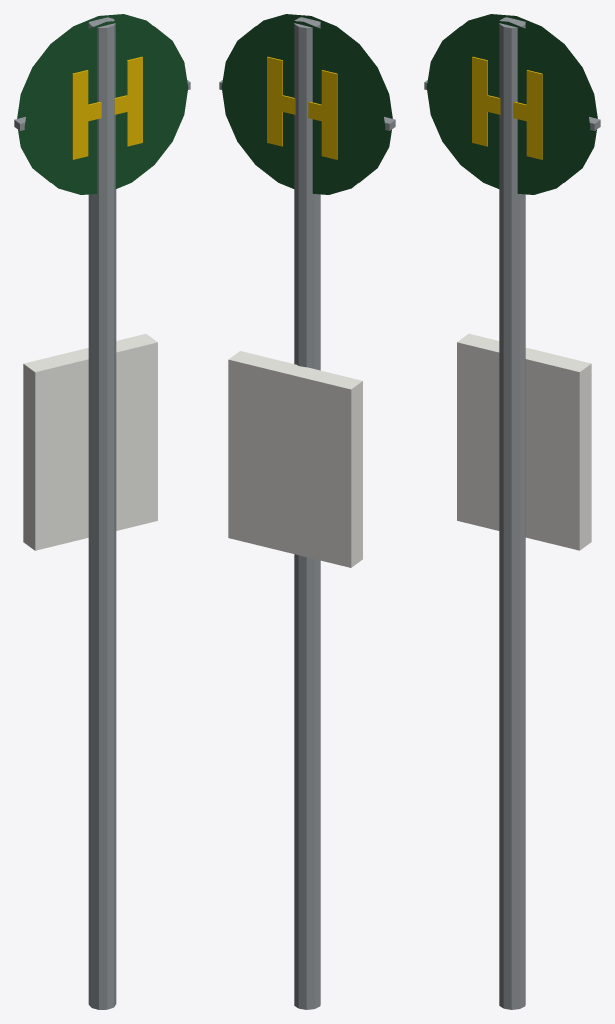
Rendered from prop-bus_stop.glb.
3 renders of one model, left to right at view 1: azimuth 30°, elevation 25°; view 2: azimuth 150°, elevation 25°; view 3: azimuth 330°, elevation 25°, orthographic.
Visible parts, largest first — view 1: bus_stop; view 2: bus_stop; view 3: bus_stop.
Part boxes in pixels (x1=…): bus_stop: x1=14, y1=14, x2=190, y2=1009; bus_stop: x1=219, y1=14, x2=395, y2=1009; bus_stop: x1=424, y1=14, x2=600, y2=1009.
Size of the model in its own units: 0.5 by 2.76 by 0.1246.
